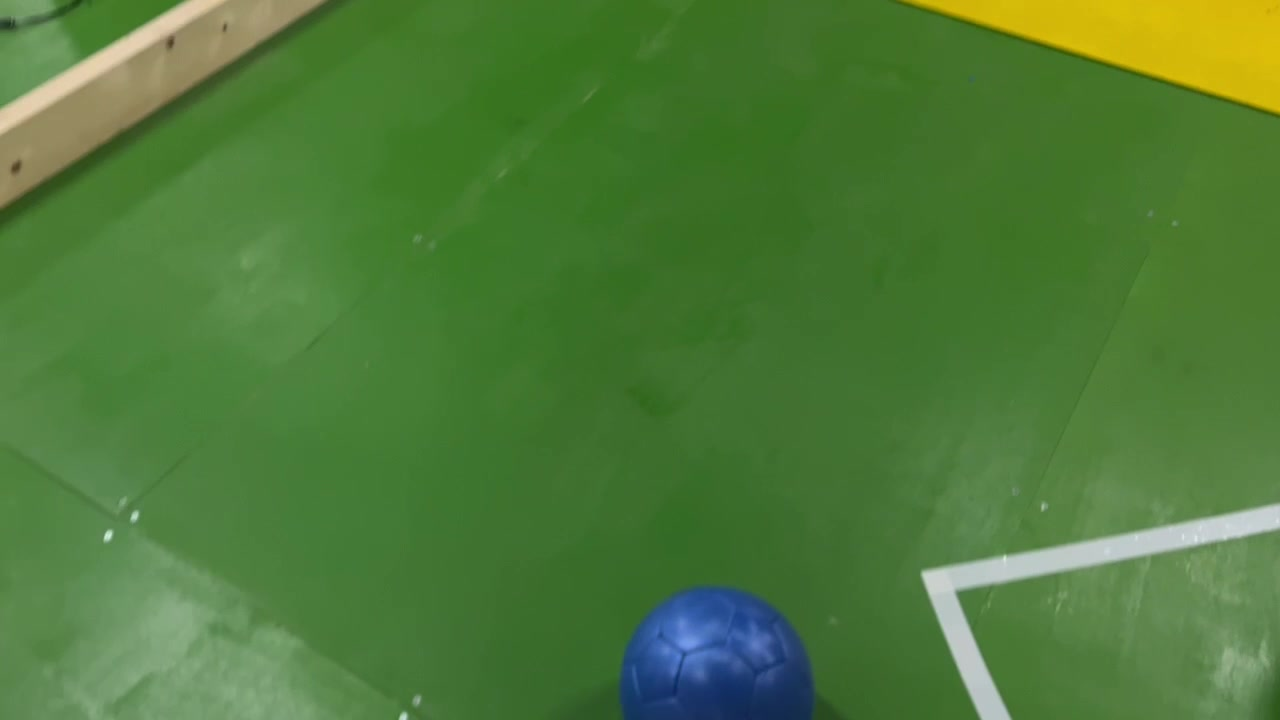blue: (608, 572, 820, 720)
